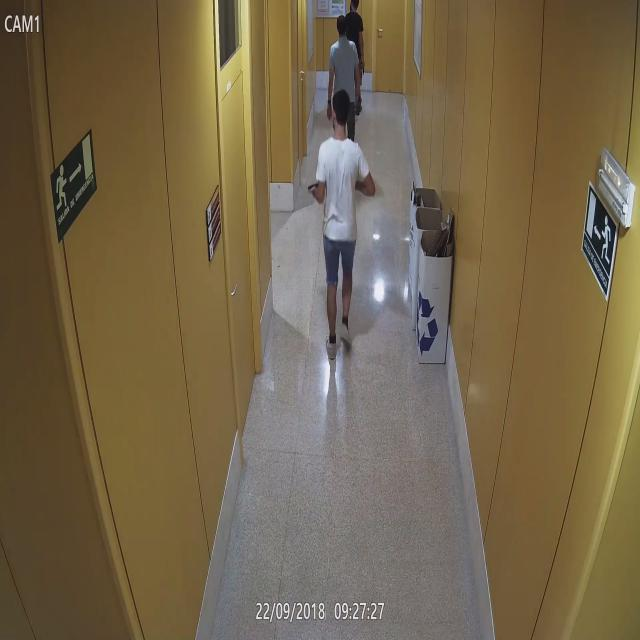Gun: (358, 58, 368, 74)
